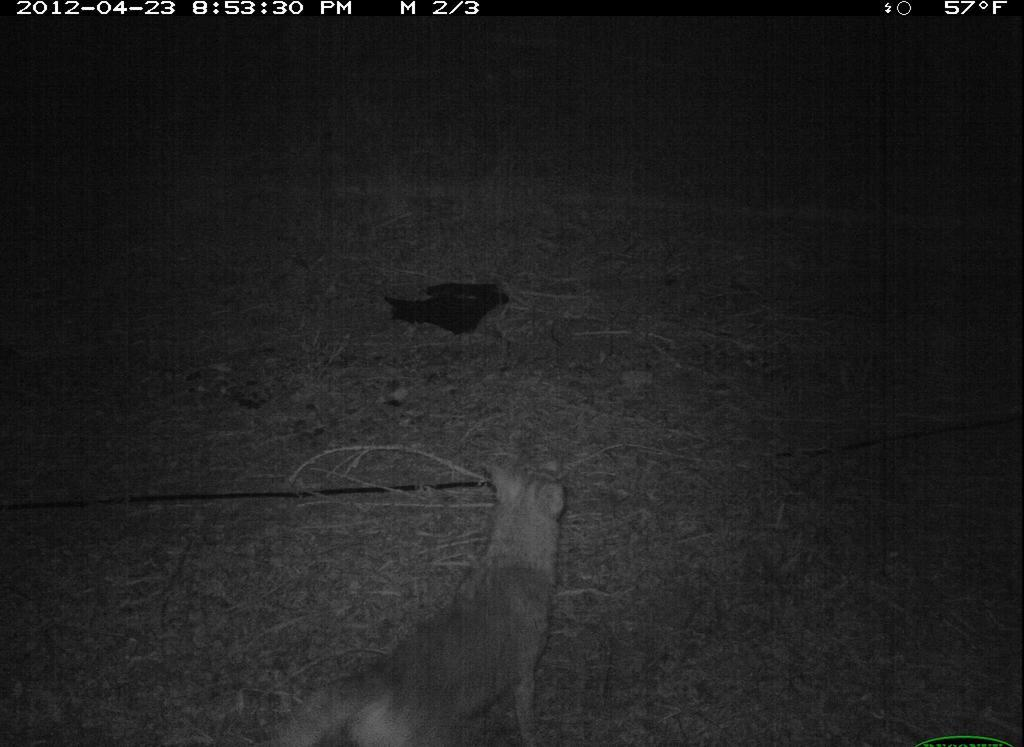coyote: (239, 451, 641, 745)
